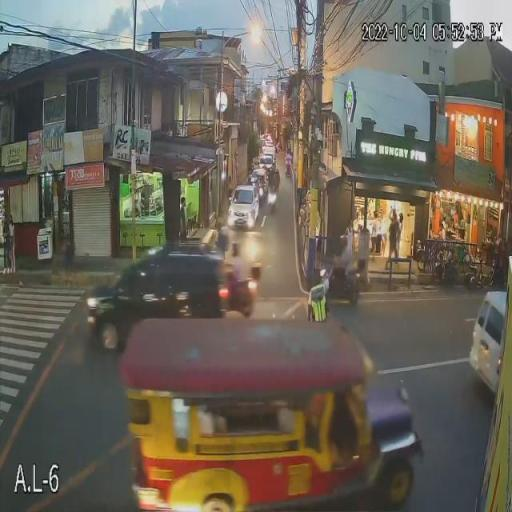helmet: (228, 242, 242, 260), (339, 234, 349, 251)
motorcycle: (318, 258, 361, 305)
rider: (226, 239, 244, 292), (337, 232, 351, 280)
